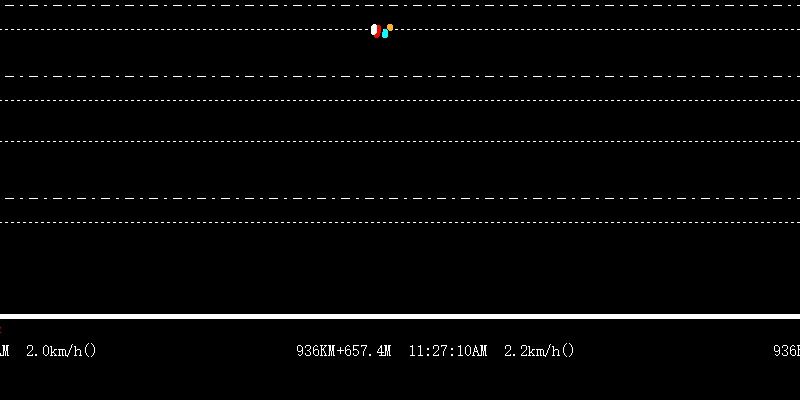face_s: (369, 22, 380, 39)
